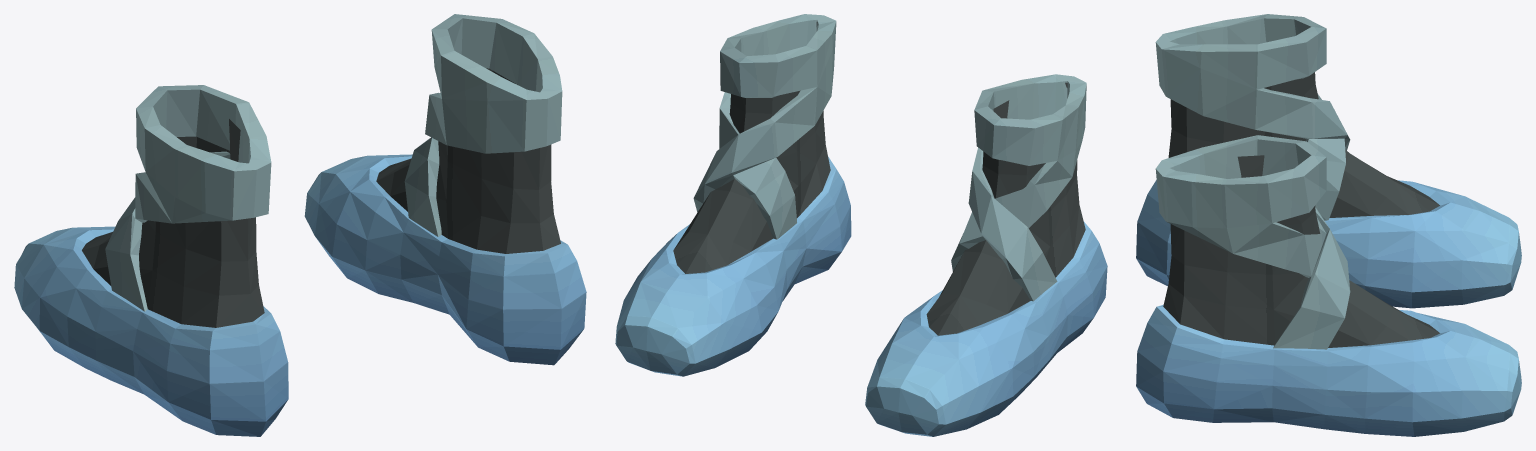
File: CharSkyKid_Feet_BalletFlats.glb
3 renders of one model, left to right at view 1: azimuth 30°, elevation 25°; view 2: azimuth 150°, elevation 25°; view 3: azimuth 270°, elevation 25°, orthographic. The views are drawn at different scales.
Parts seen in each view (by area): view 1: CharSkyKid_Feet_BalletFlats; view 2: CharSkyKid_Feet_BalletFlats; view 3: CharSkyKid_Feet_BalletFlats.
Part boxes in pixels (x1,y1,x2,y2): CharSkyKid_Feet_BalletFlats: (14,14,586,436); CharSkyKid_Feet_BalletFlats: (615,14,1107,436); CharSkyKid_Feet_BalletFlats: (1136,14,1521,436).
Bounding box in the file's own units: 2.73 × 1.74 × 2.33.
Materials: 1 (1 with a texture image).
